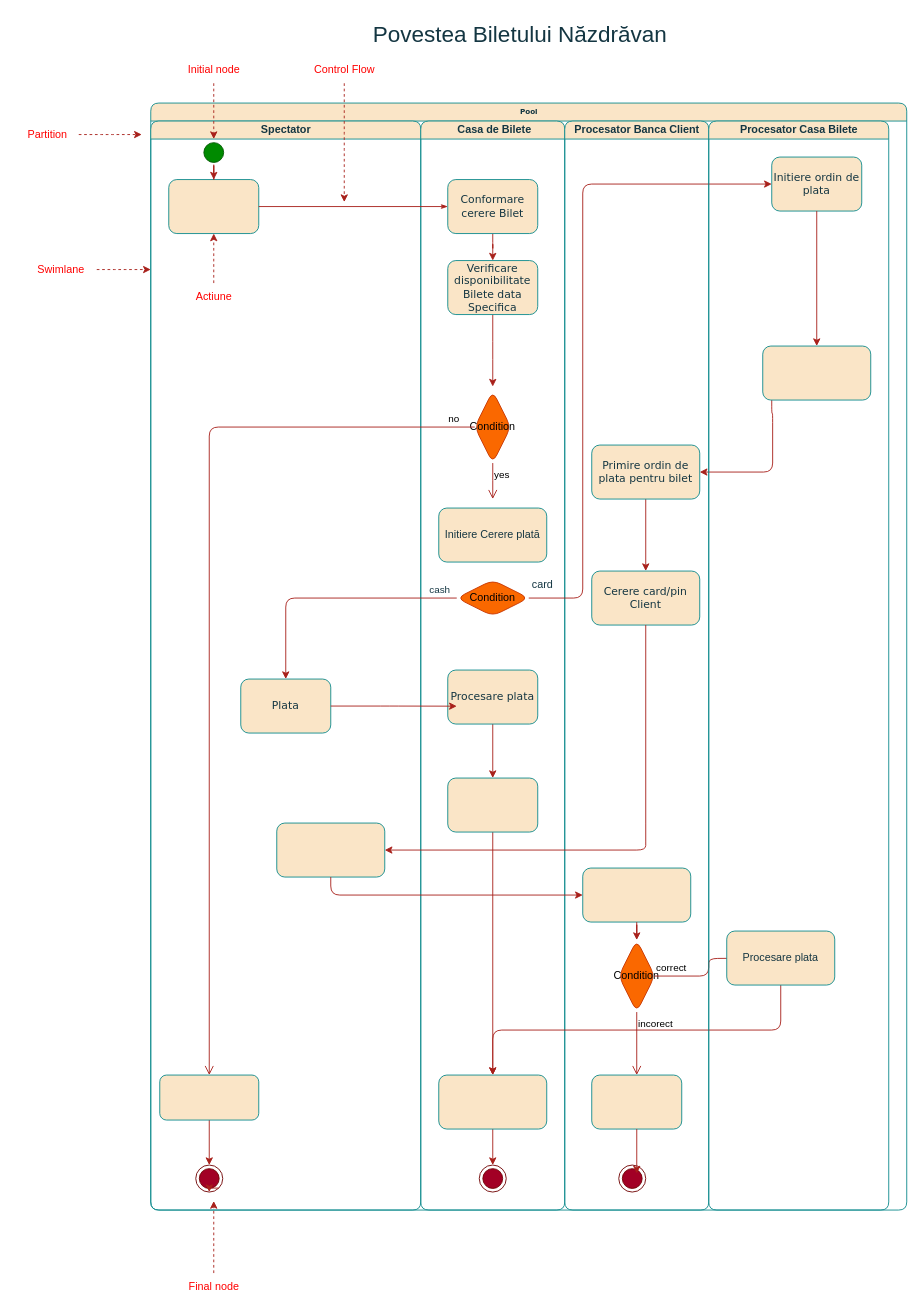
Some shapes in this 923 by 1315 pixel diagram are drawn without their labels. Here are the shapes that lost their labels. From the top down, the centre of each, then its label:
the point at 213,206: Cerere bilet
the point at 816,372: Trimitere ordin de plata catre banca clientului
the point at 492,804: Eliberare Bon fiscal si Bilet
the point at 330,849: Client introduce pin/card
the point at 636,894: Primire date Card/pin
the point at 209,1097: Bilet necumparat
the point at 492,1101: Bilet Cumparat
the point at 636,1101: Anulare plata
